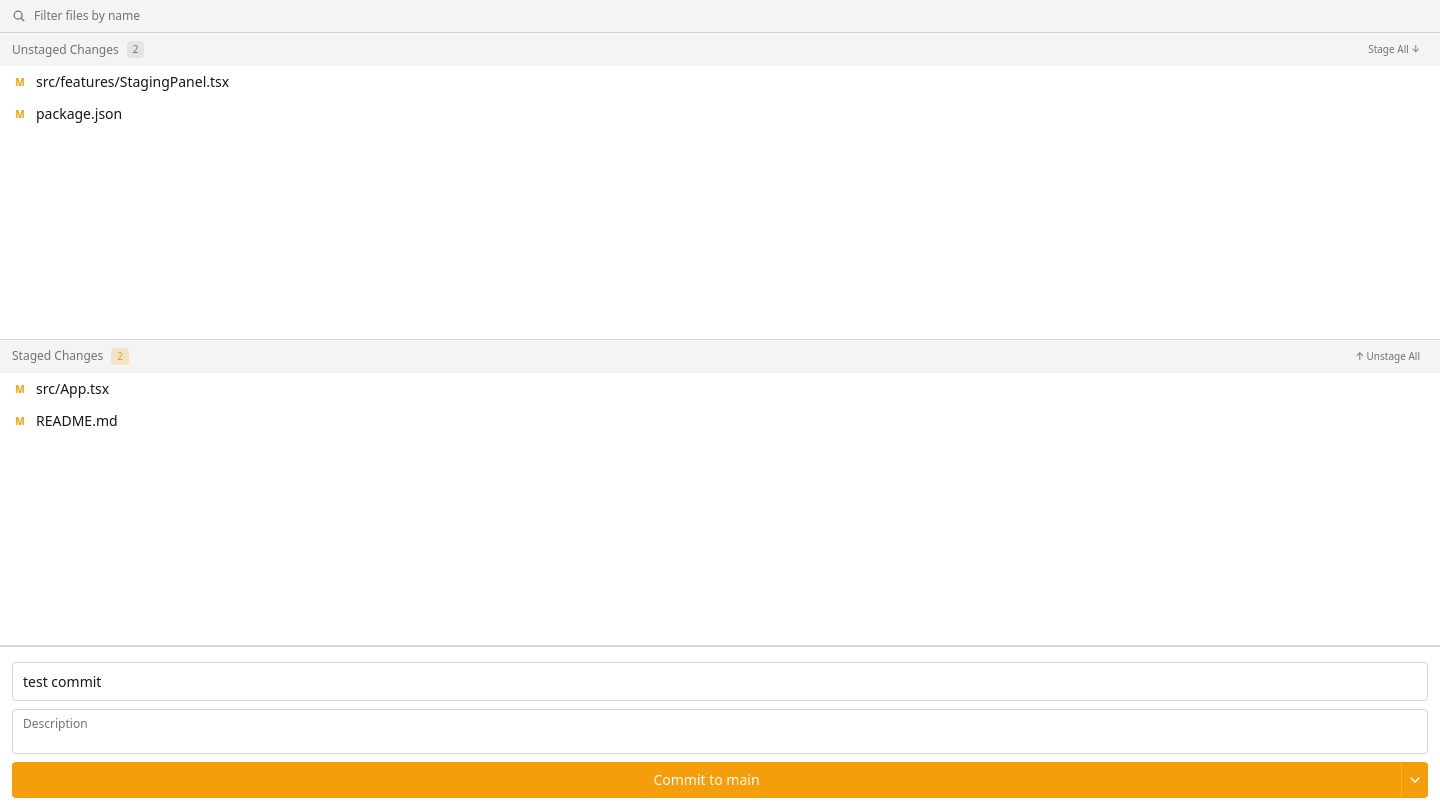
Scenario: StagingPanel — file filter › shows empty results and clears the filter with Escape or the clear button
Step 1. Type "missing" into the field with test id "staging-filter-input" → [731, 16], box [34,8,1428,24]
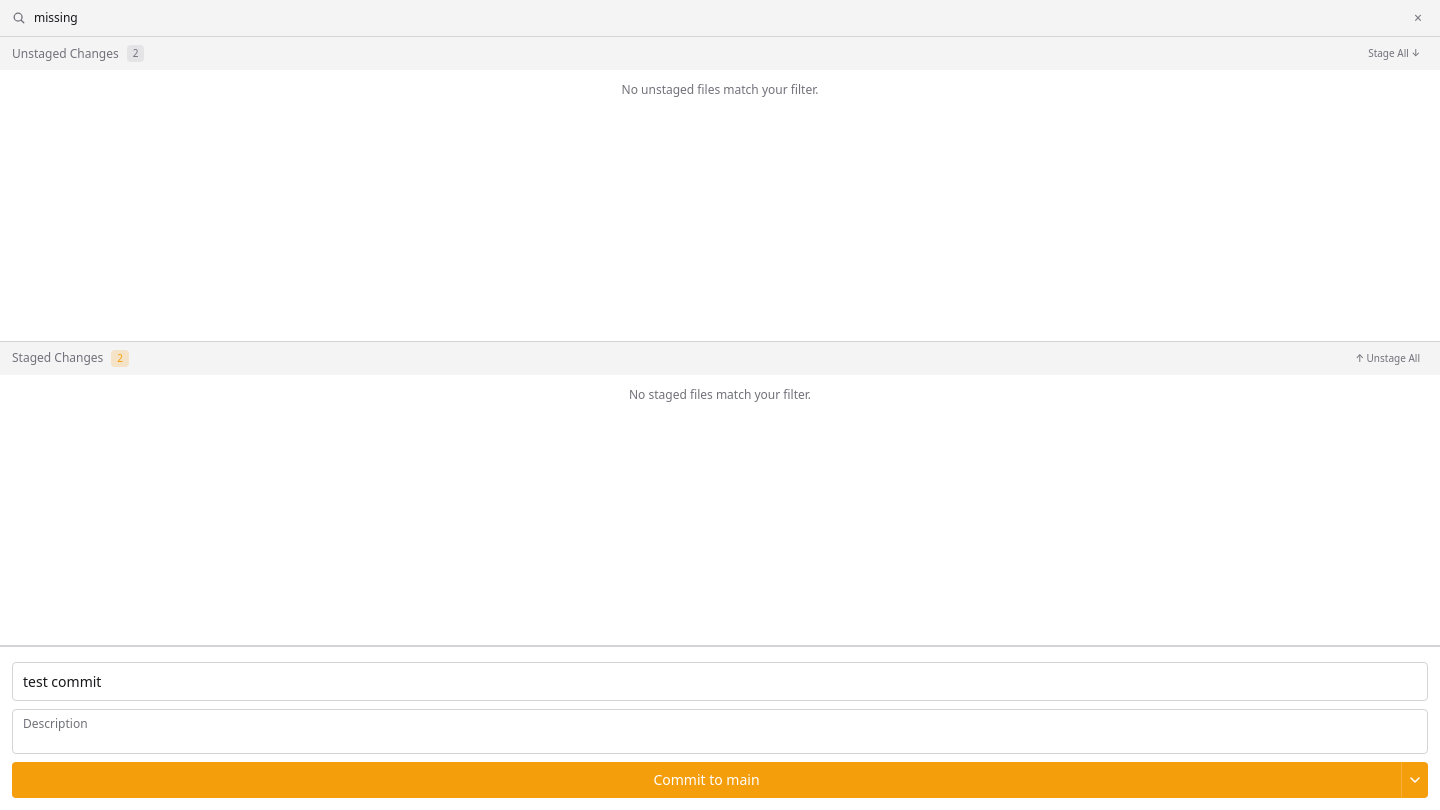
Result: the text "No unstaged files match your filter." is shown at [622,81,818,98]
Result: the text "No staged files match your filter." is shown at [629,386,811,403]
Step 2. Press Escape in the field with test id "staging-filter-input", box [34,10,1400,26]
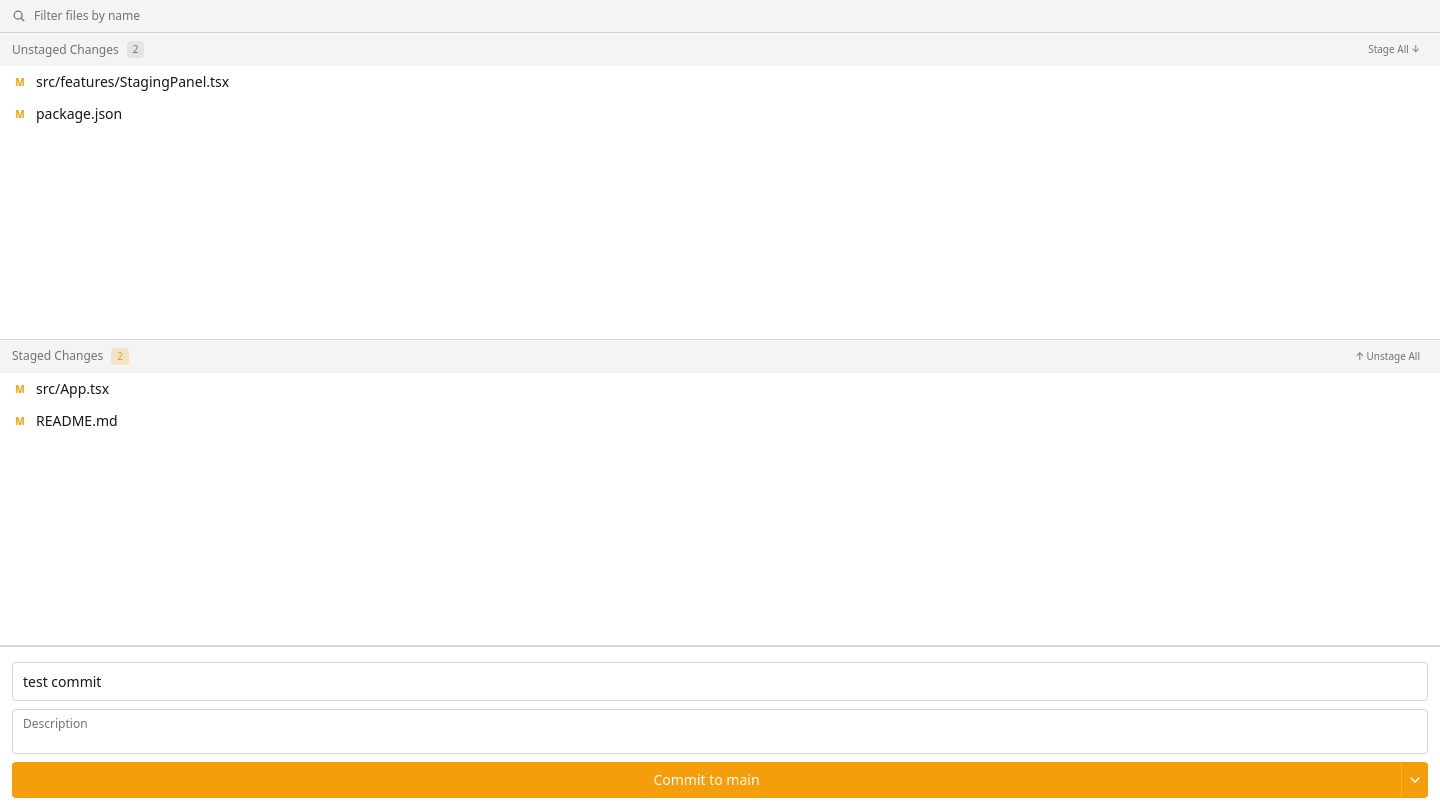
Result: the field with test id "staging-filter-input" is empty
Result: the number of elements with test id "file-row" is 4 at [15,72,229,91]; [15,104,122,123]; [15,379,109,398]; [15,411,118,430]
Step 3. Type "json" into the field with test id "staging-filter-input" → [731, 16], box [34,8,1428,24]
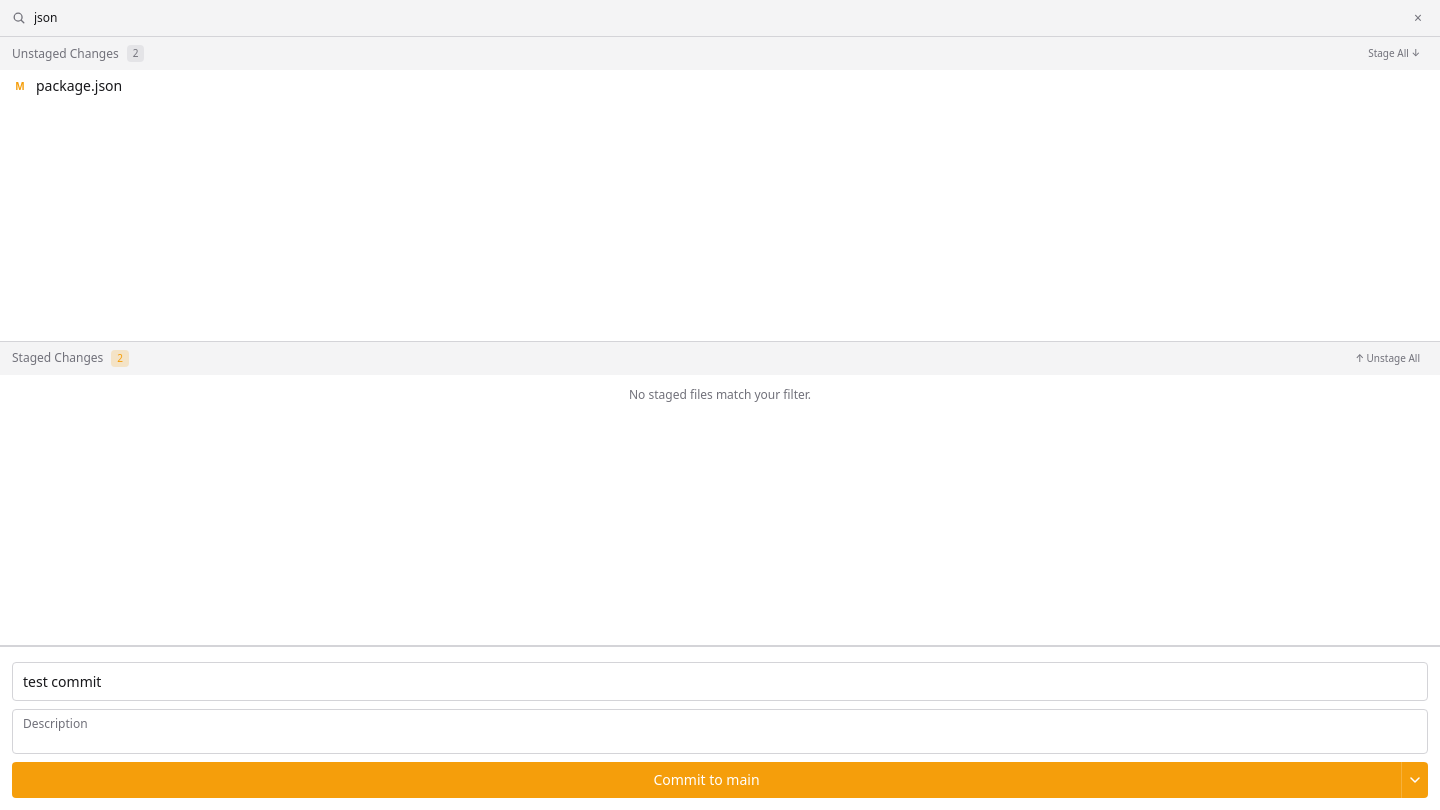
Step 4. Click the button with test id "staging-filter-clear" → [1418, 18], box [1408,8,1428,28]
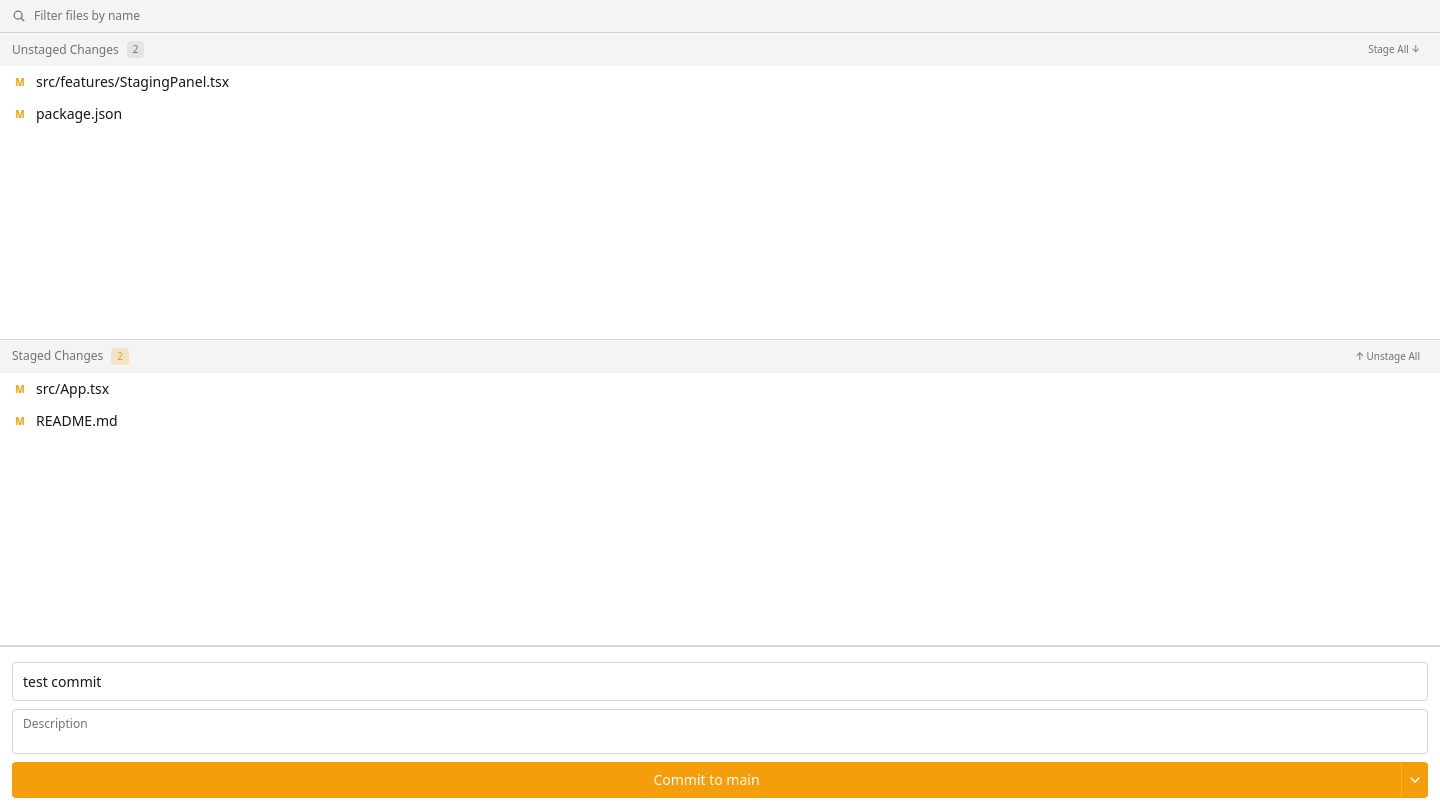
Result: the field with test id "staging-filter-input" is empty at [34,8,1428,24]
Result: the button with test id "staging-filter-clear" is gone
